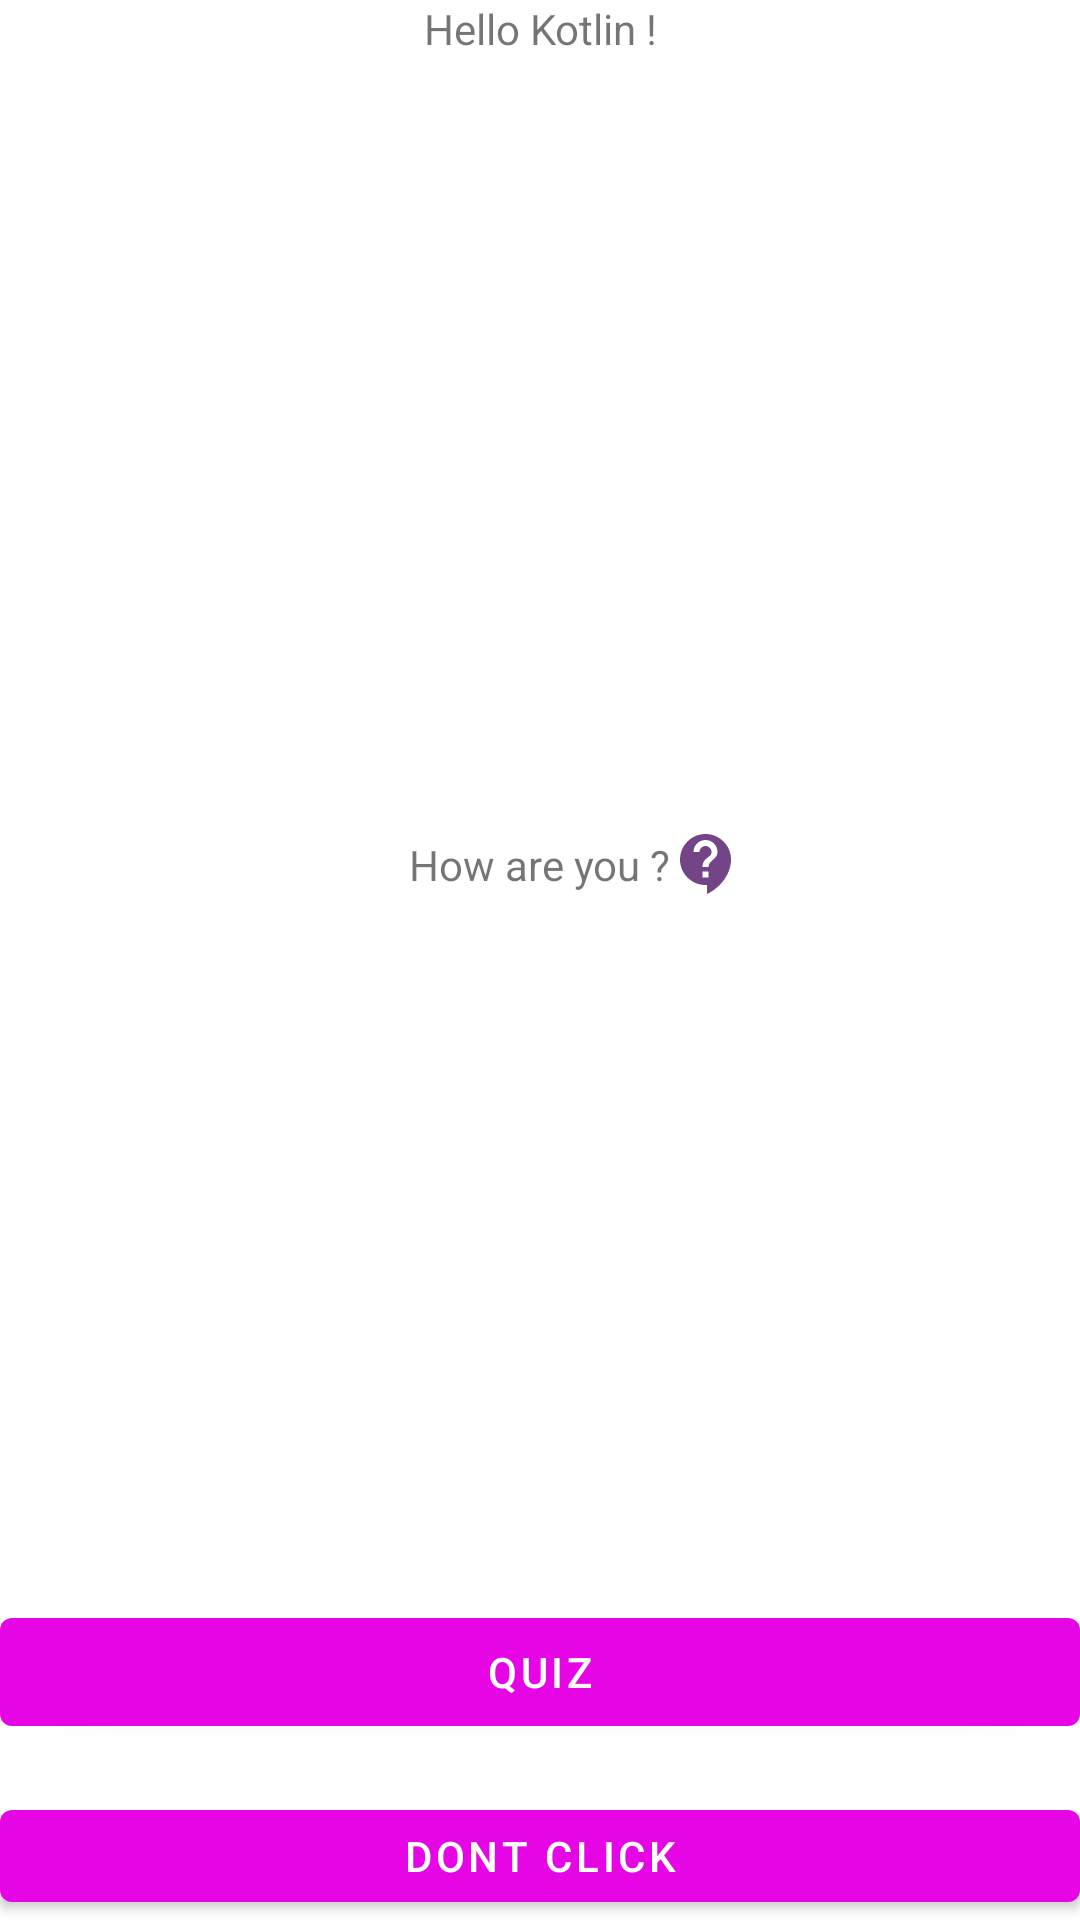

Icon click points for this 1080 × 1920 phone screenshot, format (x=x, y=y):
support: (x=705, y=864)
